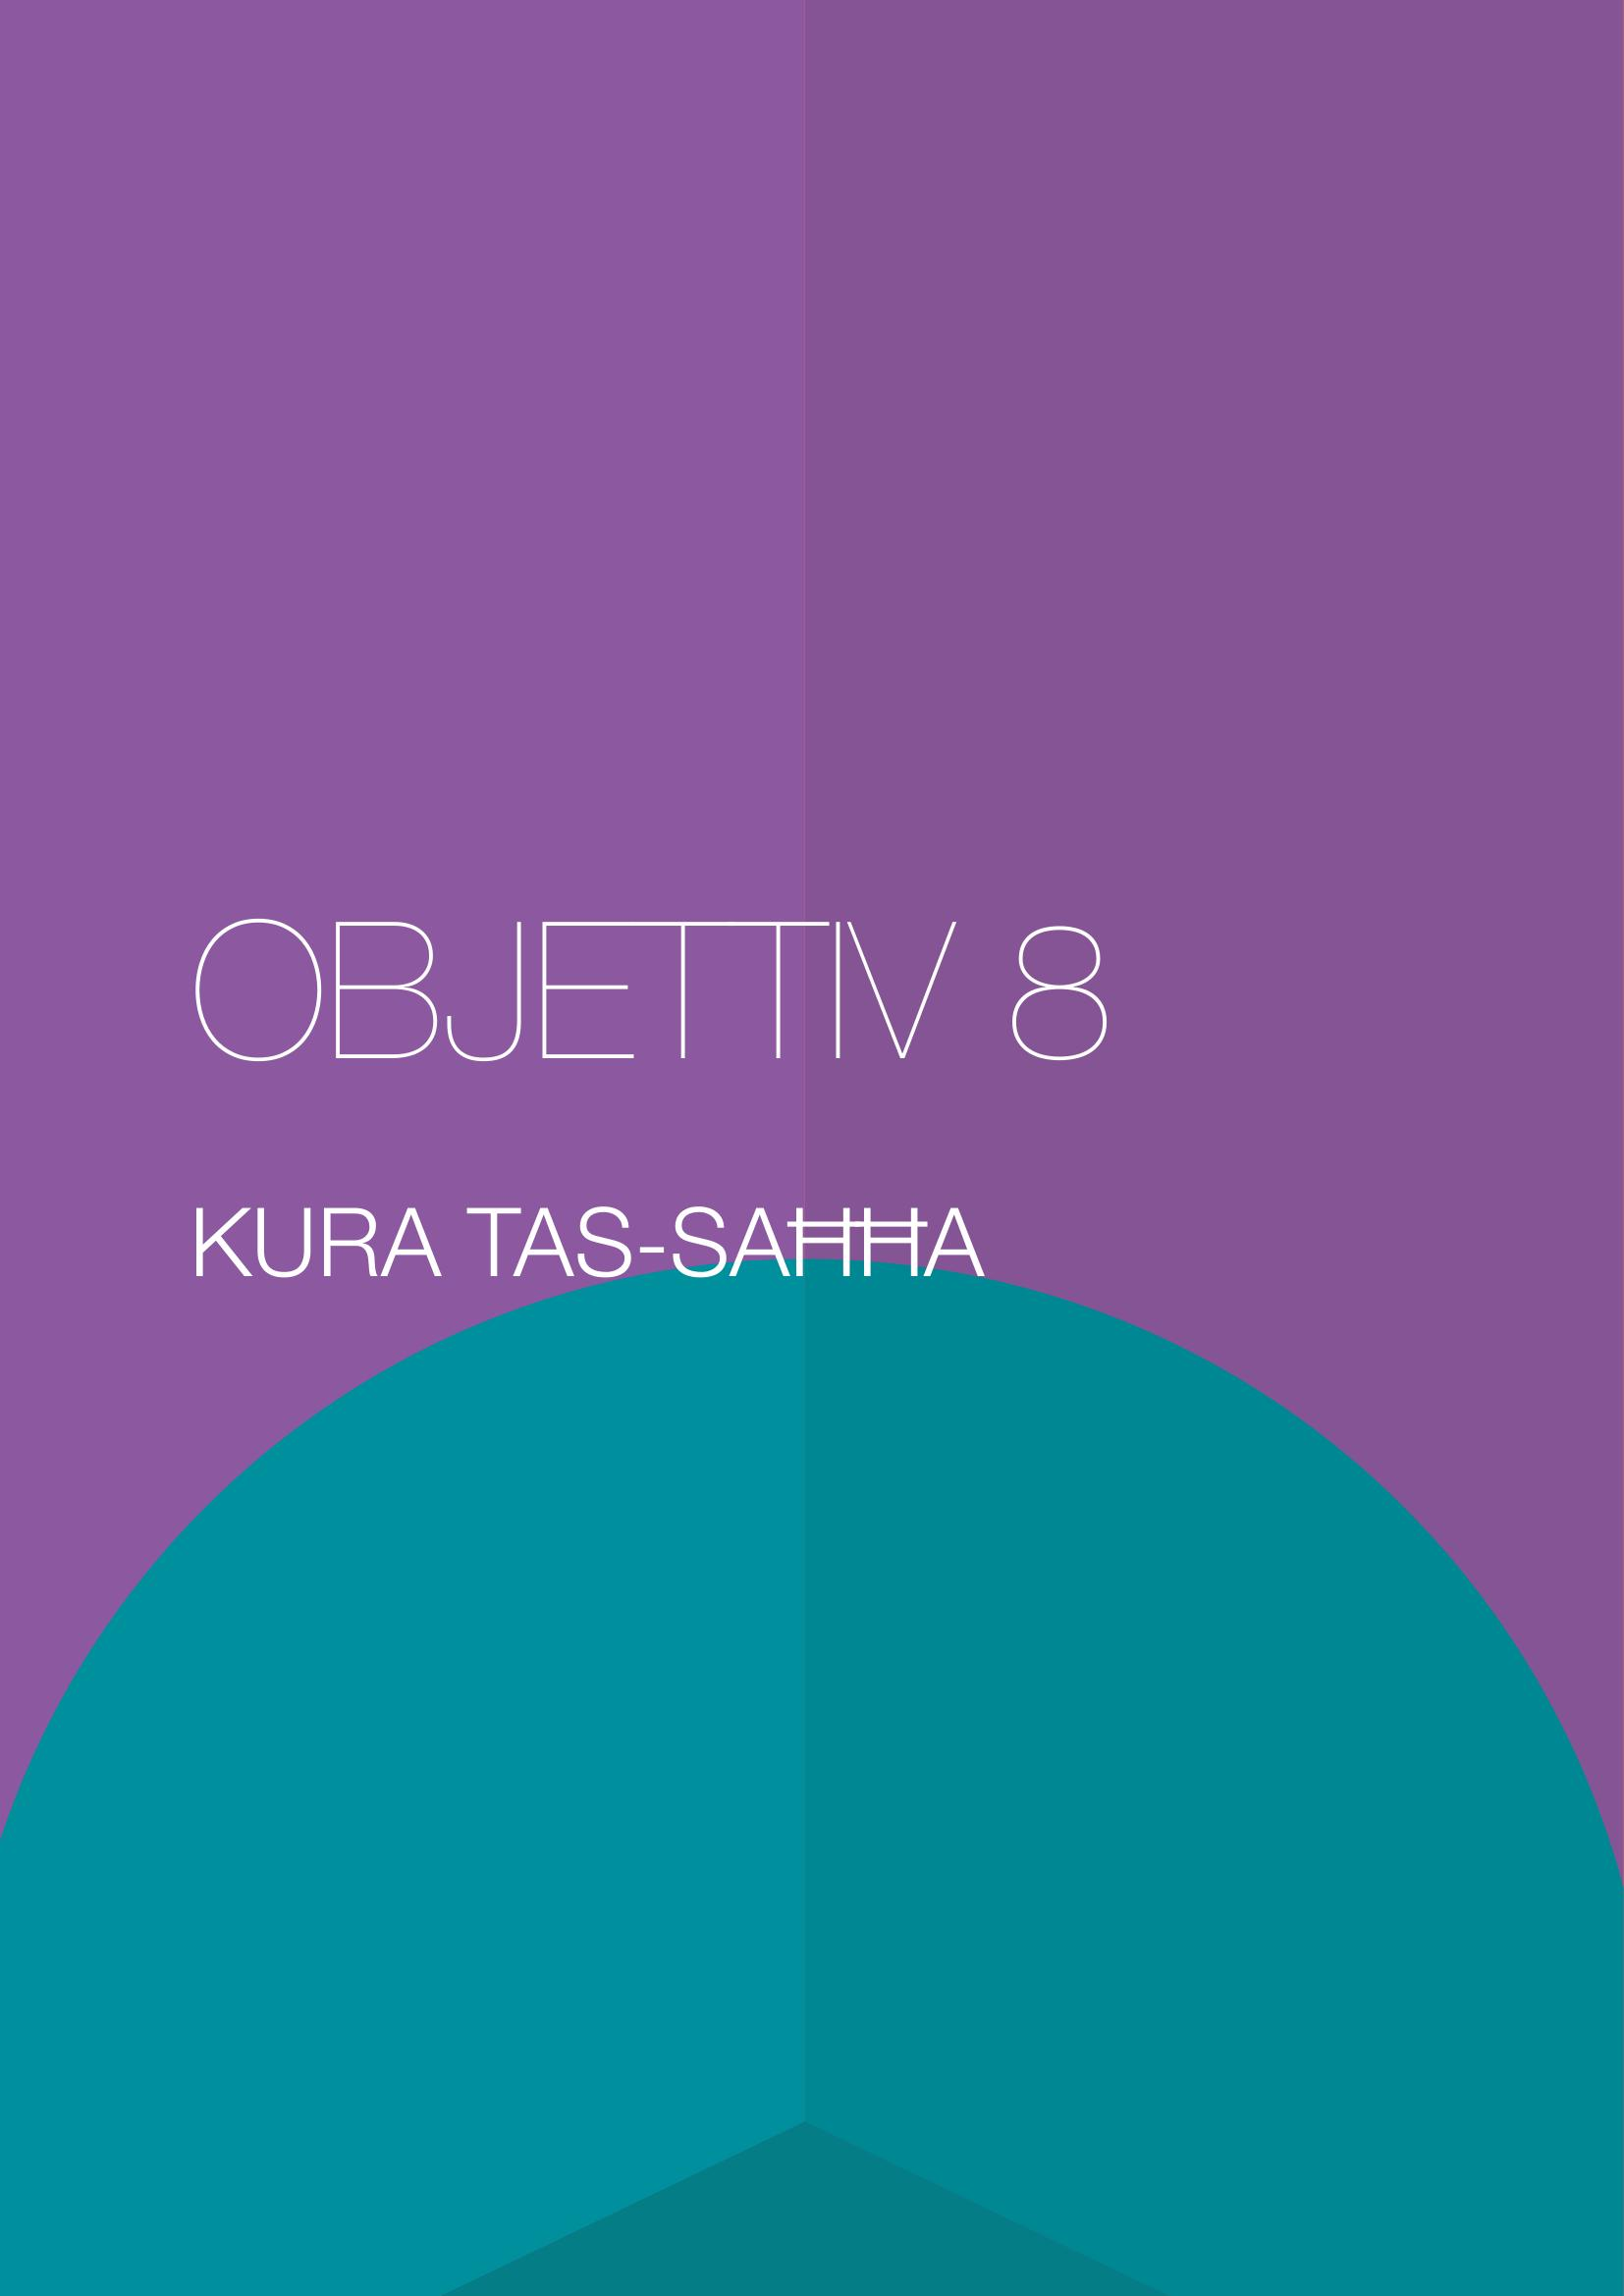text: (155, 871, 1142, 1351)
